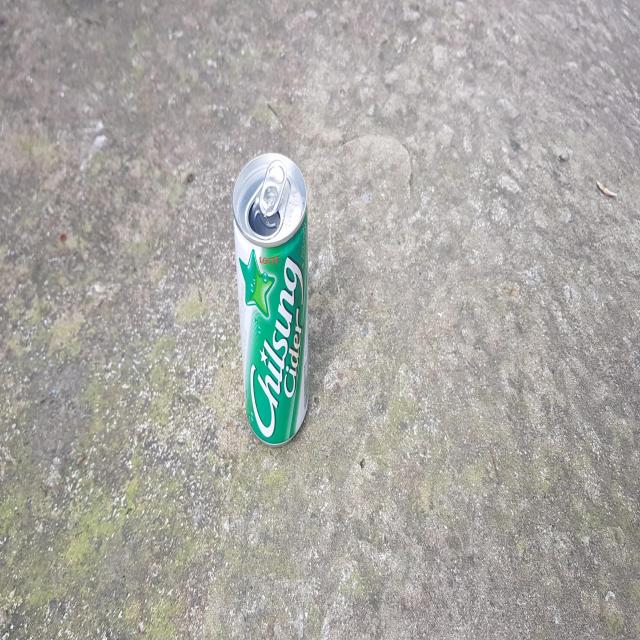can: (232, 152, 308, 444)
